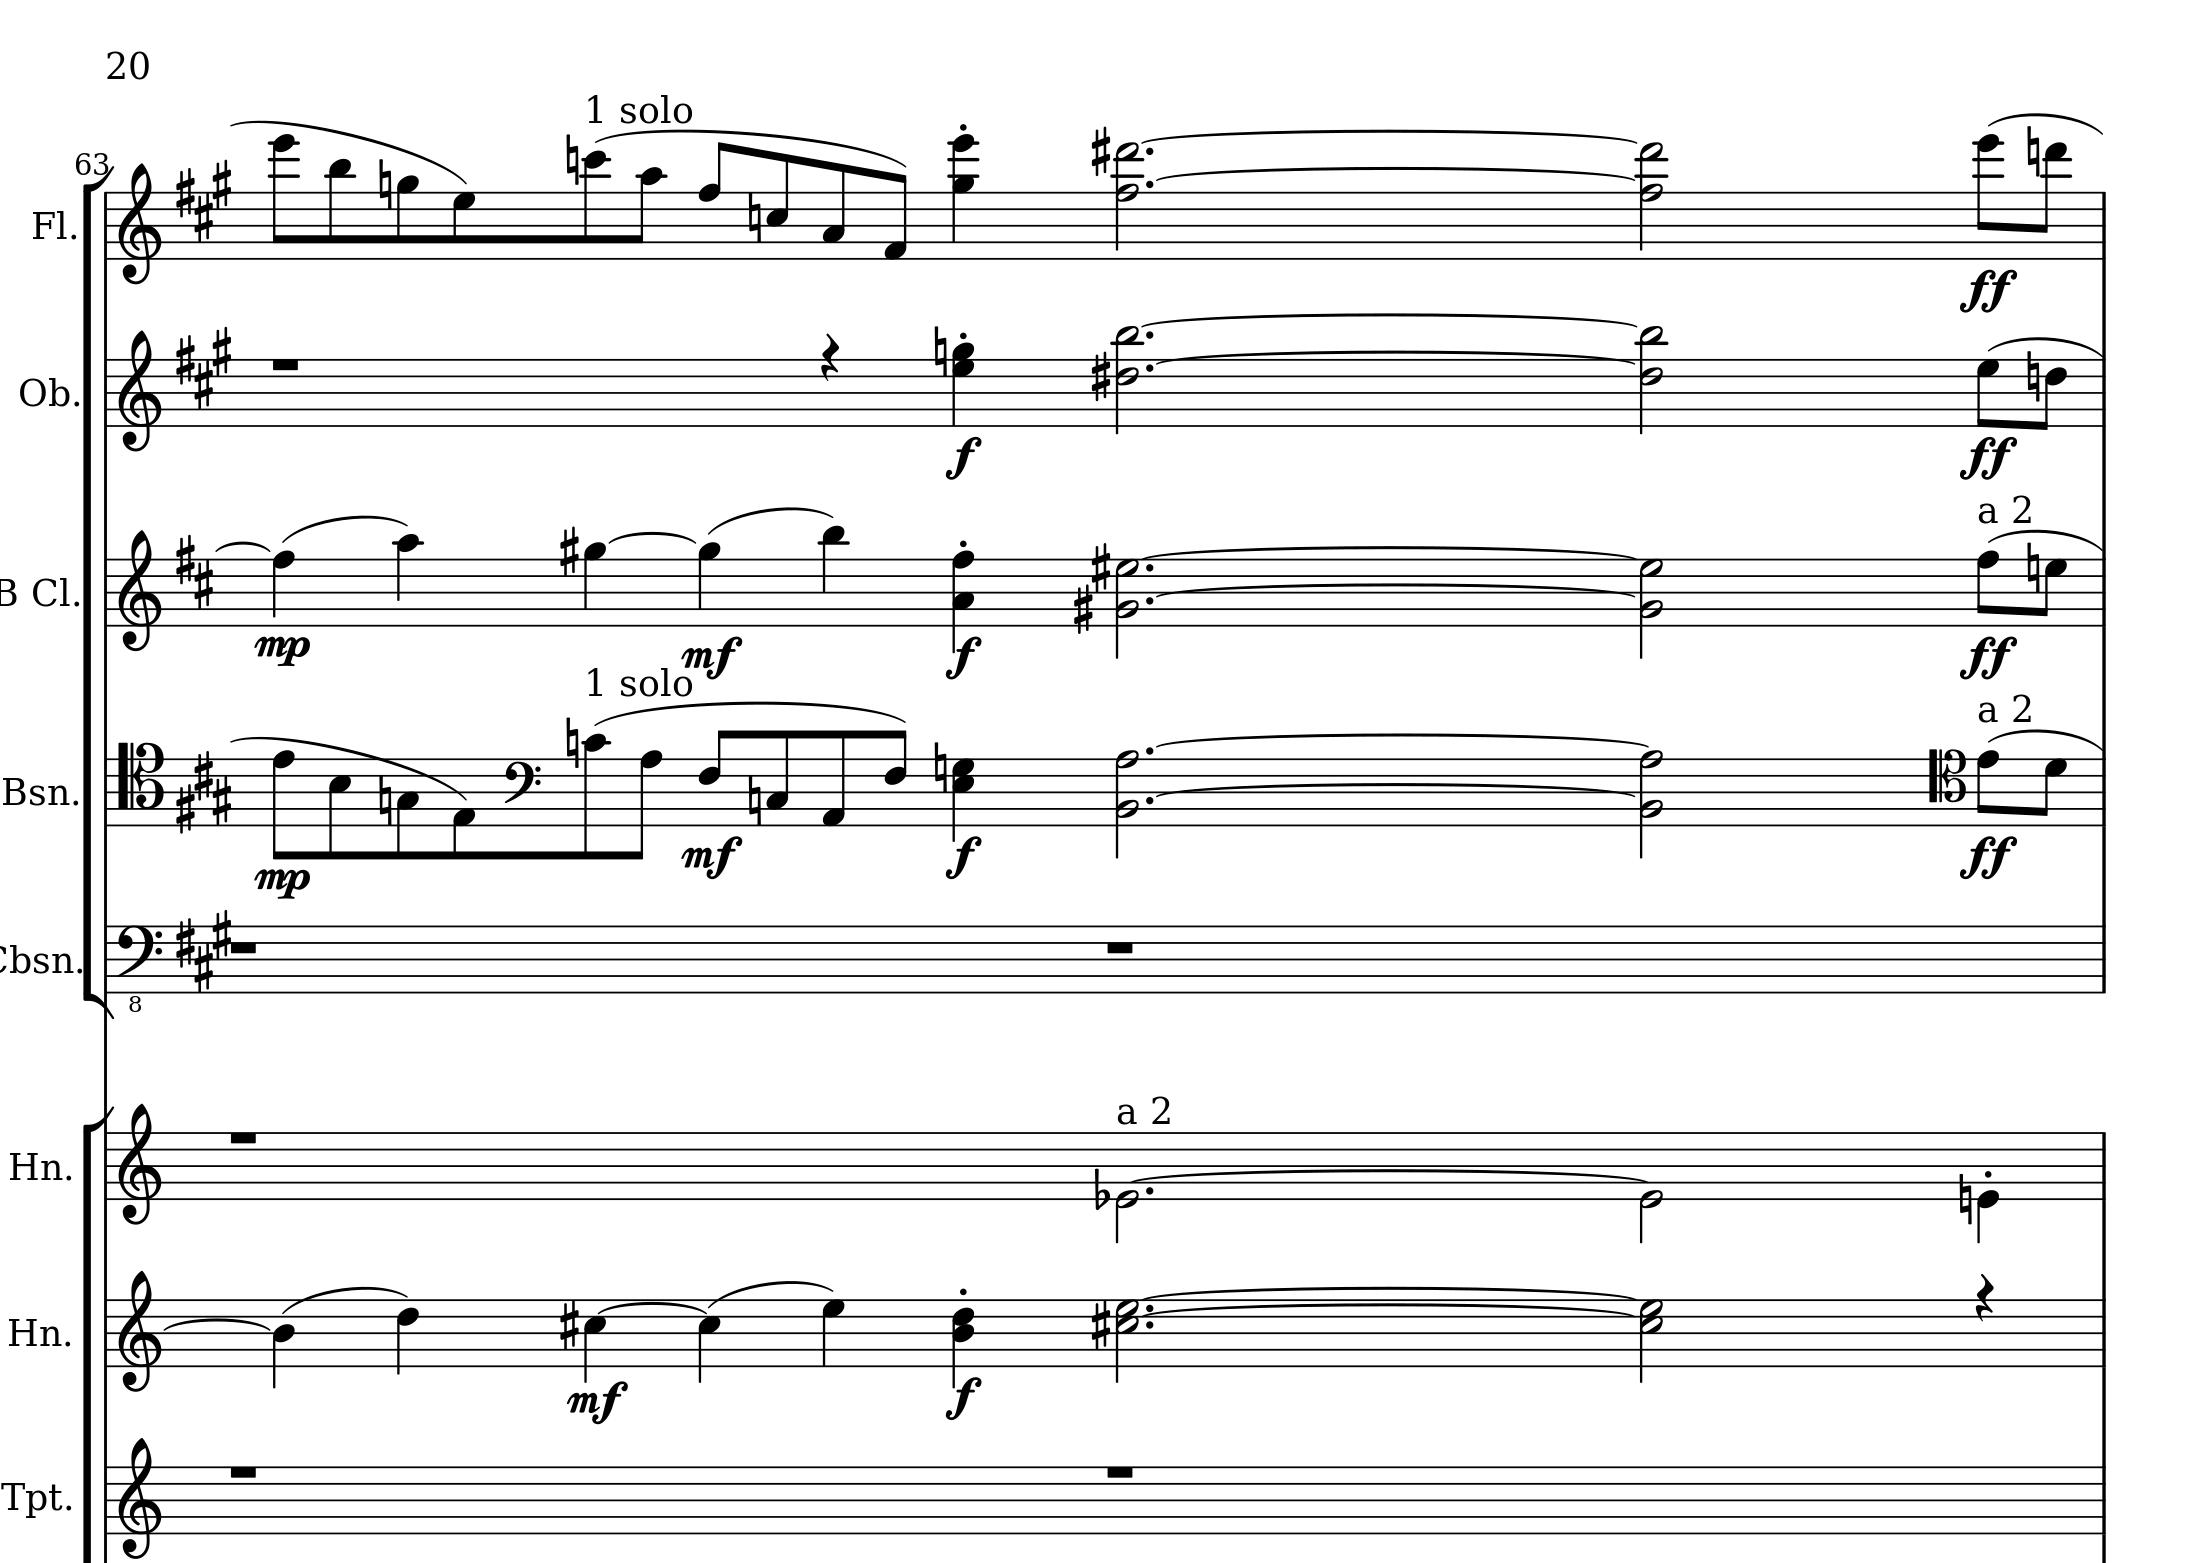0: (129, 47, 149, 80)
1: (589, 90, 604, 123)
2: (103, 47, 129, 81), (2010, 690, 2032, 722), (2010, 492, 2032, 523)
2_0: (1639, 1130, 1665, 1242), (1115, 1128, 1138, 1245)
2_2_7: (1636, 557, 1666, 660), (1115, 557, 1144, 658)
2_2_8: (1638, 748, 1665, 859), (1115, 748, 1142, 859)
2_5_7: (1638, 1297, 1666, 1384), (1115, 1299, 1142, 1385)
2_6_11: (1111, 325, 1144, 438), (1636, 321, 1666, 433)
2_8_13: (1110, 140, 1144, 260), (1634, 140, 1666, 262)
3: (91, 149, 110, 173)
4_0: (1974, 1130, 2000, 1243)
4_10: (392, 529, 423, 629)
4_11: (819, 523, 848, 629)
4_3_8: (951, 548, 976, 655)
4_4: (271, 1296, 298, 1390)
4_4_6: (951, 1296, 978, 1390)
4_5: (697, 1297, 722, 1385), (584, 1296, 607, 1384)
4_5_7: (951, 756, 978, 842)
4_6: (394, 1296, 421, 1375)
4_7: (822, 1296, 846, 1368)
4_7_9: (949, 338, 979, 430)
4_8: (271, 548, 296, 624)
4_9: (695, 540, 722, 628), (582, 540, 607, 628)
4_9_14: (947, 132, 983, 260)
6: (73, 149, 91, 176)
8_1: (448, 756, 477, 861), (819, 727, 848, 829), (881, 171, 908, 262)
8_10: (580, 732, 612, 861), (629, 164, 665, 260)
8_11: (326, 156, 354, 262)
8_12: (582, 147, 609, 260)
8_13: (2033, 139, 2069, 262)
8_14: (1974, 132, 2005, 260), (267, 134, 298, 260)
8_3: (394, 754, 420, 861), (820, 161, 848, 260), (765, 727, 792, 827)
8_5: (325, 754, 352, 863), (765, 149, 790, 262)
8_6: (697, 726, 731, 827), (881, 727, 908, 827), (2037, 357, 2069, 431)
8_7: (2033, 756, 2069, 827), (2037, 557, 2067, 628), (1974, 357, 2001, 430), (452, 189, 475, 260)
8_8: (626, 748, 665, 863), (695, 139, 731, 260), (269, 746, 298, 861), (1974, 548, 2001, 628), (1974, 748, 2001, 827)
8_9: (394, 173, 420, 262)
A_S: (173, 907, 237, 993), (173, 323, 233, 409), (174, 157, 233, 242)
Bracke: (80, 161, 113, 1020)
Bsn: (2, 770, 73, 815)
Cl: (29, 570, 73, 616)
D_S: (173, 529, 215, 609)
E_S: (173, 746, 235, 834)
Fclef: (501, 756, 541, 827)
Fl: (27, 206, 69, 247)
Flat: (1091, 1165, 1110, 1211)
Gclef: (117, 1267, 166, 1394), (117, 326, 164, 452), (117, 1101, 164, 1226), (117, 1434, 164, 1560), (117, 161, 162, 286), (117, 528, 162, 651)
Hn: (8, 1145, 64, 1187), (7, 1309, 63, 1352)
Lower_Fclef: (115, 922, 164, 1013)
Natural: (2023, 348, 2042, 403), (2023, 540, 2042, 594), (932, 739, 949, 797), (563, 716, 580, 771), (376, 775, 392, 829), (746, 191, 763, 244), (746, 775, 763, 827), (377, 156, 392, 211), (565, 132, 580, 188), (2025, 123, 2040, 179), (932, 325, 947, 379), (1957, 1172, 1972, 1225)
Ob: (19, 370, 73, 414)
Rests1: (1101, 935, 1138, 957), (225, 1127, 262, 1149), (225, 1460, 262, 1482), (266, 354, 304, 374), (1101, 1462, 1138, 1482), (232, 935, 262, 956)
Rests4: (1974, 1270, 1996, 1323), (819, 332, 841, 382)
Sharp: (1088, 1299, 1111, 1353), (1089, 122, 1111, 178), (1089, 348, 1111, 404), (1073, 582, 1095, 638), (558, 523, 580, 577), (558, 1297, 580, 1352), (1091, 540, 1111, 594)
Single_barline: (2093, 754, 2111, 825), (98, 1297, 117, 1367), (98, 191, 117, 259), (96, 758, 115, 825), (98, 359, 117, 425), (2093, 925, 2111, 991), (2094, 189, 2111, 259), (2094, 557, 2111, 626), (100, 925, 117, 995), (2094, 359, 2111, 426), (98, 558, 115, 624), (2094, 1132, 2111, 1198), (100, 1133, 117, 1199), (100, 1467, 117, 1533), (2094, 1467, 2111, 1533), (2094, 1301, 2111, 1365)
Slur: (230, 732, 479, 805), (232, 115, 474, 189), (597, 127, 907, 171), (1144, 310, 1639, 330), (594, 700, 905, 731), (1135, 129, 1636, 147), (1147, 166, 1638, 184), (1149, 350, 1638, 369), (707, 506, 836, 535), (281, 513, 409, 541), (281, 1286, 409, 1314), (707, 1281, 837, 1308), (1988, 110, 2104, 134), (1984, 528, 2103, 550), (1984, 727, 2101, 749), (1988, 333, 2103, 355), (161, 1316, 272, 1331), (595, 1301, 707, 1314), (606, 529, 697, 545), (215, 540, 272, 553)
Solo: (617, 666, 695, 699), (617, 91, 692, 123)
Tensor_Cclef: (113, 739, 166, 827), (1927, 746, 1966, 827)
Tpt: (2, 1475, 64, 1521)
dot: (1144, 144, 1155, 157), (1144, 328, 1155, 342), (1144, 360, 1155, 374), (1144, 744, 1155, 758), (1144, 1184, 1155, 1198), (1142, 1302, 1155, 1314), (1144, 562, 1155, 573), (1144, 594, 1155, 606), (1144, 793, 1155, 805), (1144, 1318, 1155, 1330), (1144, 178, 1154, 189)
f: (942, 435, 985, 480), (942, 634, 985, 680), (944, 834, 985, 880), (944, 1375, 983, 1419)
ff: (1956, 431, 2020, 480), (1956, 633, 2016, 683), (1957, 832, 2016, 881), (1957, 267, 2018, 315)
mf: (565, 1379, 628, 1426), (680, 836, 743, 881), (682, 634, 744, 678)
mp: (252, 864, 313, 903), (252, 634, 311, 670)
